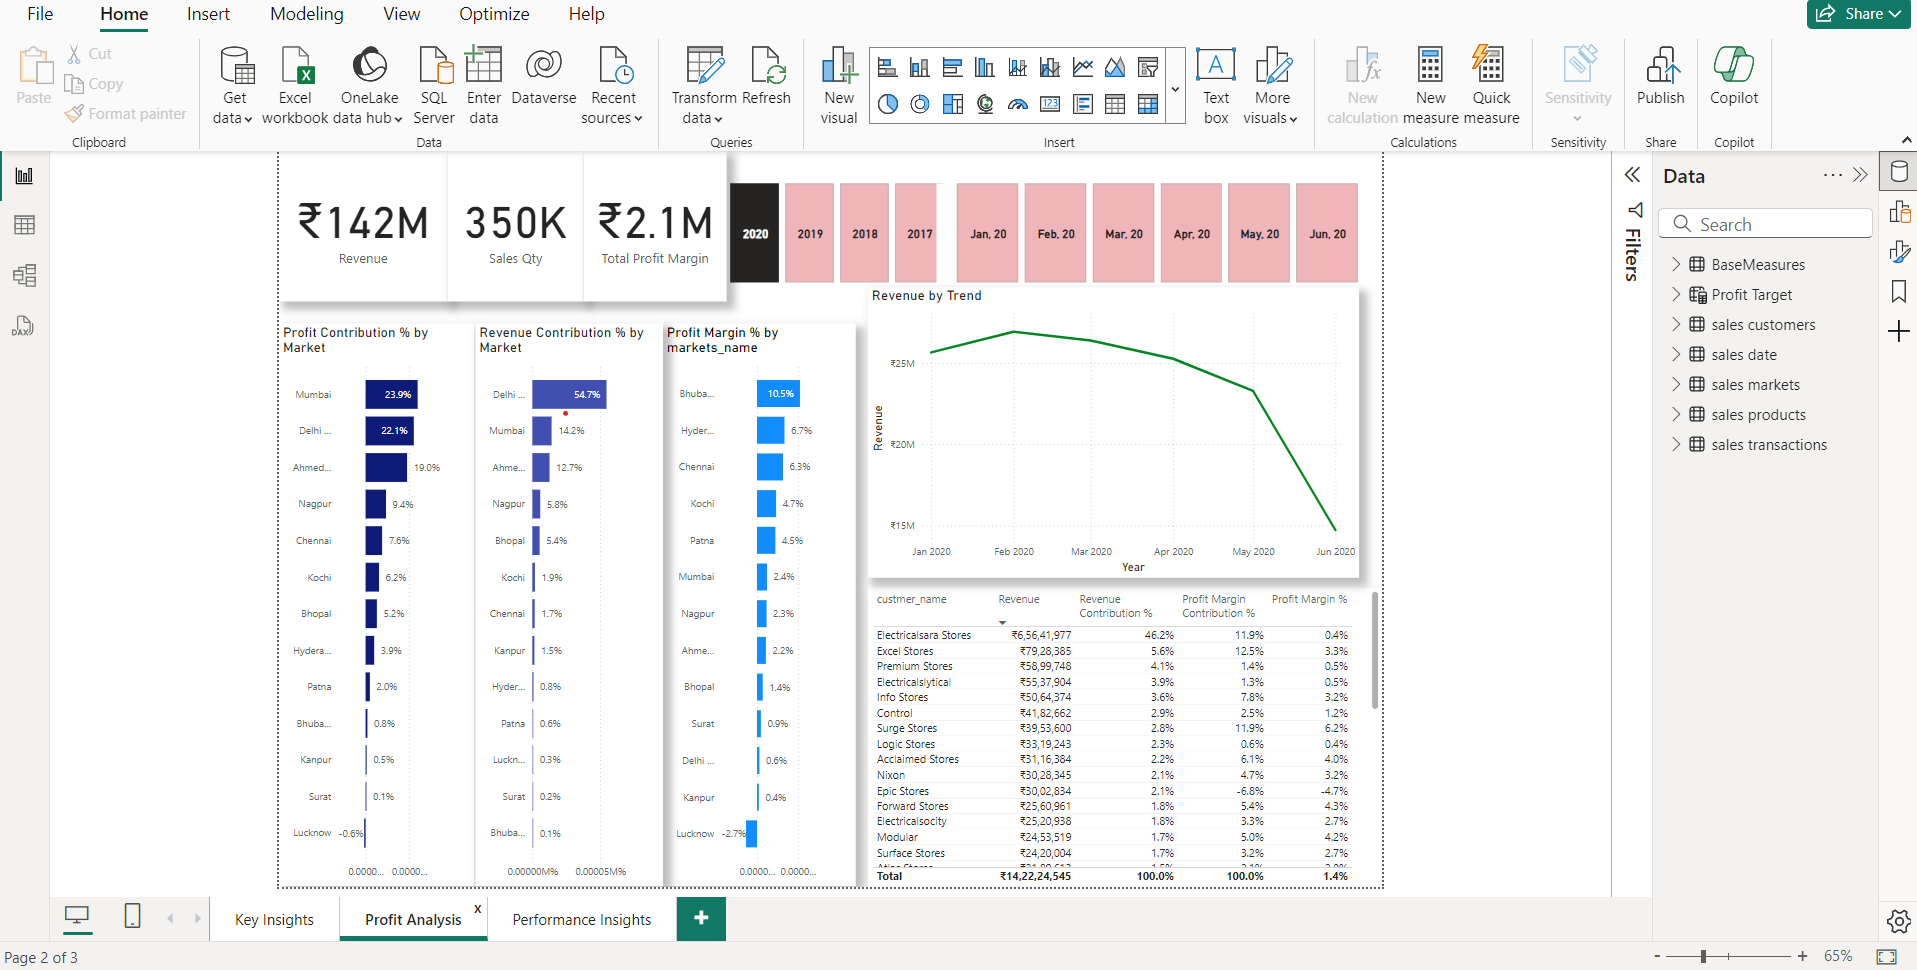

The page's visual inventory and layout, read from the dashboard file:
{"tool":"powerbi","page":{"name":"Profit Analysis","canvas":[1350,900],"ordinal":1},"visuals":[{"type":"card","fields":{"Values":["BaseMeasures.Revenue"]},"box":[0,0,206.2,184],"z":0},{"type":"card","fields":{"Values":["BaseMeasures.Sales Qty"]},"box":[206.2,0,166.5,184],"z":1000},{"type":"barChart","fields":{"Category":["sales markets.markets_name"],"Y":["BaseMeasures.Profit Margin %"]},"box":[469.5,210.9,236.3,688.3],"z":2000},{"type":"barChart","title":"Profit Contribution % by Market","fields":{"Category":["sales markets.markets_name"],"Y":["BaseMeasures.Profit Margin Contribution %"]},"box":[0,210.9,239.5,688.3],"z":3000},{"type":"advancedSlicerVisual","title":"Year","fields":{"Values":["sales date.year"]},"box":[547.2,39.7,273.6,126.9],"z":4000},{"type":"advancedSlicerVisual","title":"Year","fields":{"Values":["sales date.cy_date"]},"box":[804,39.7,545.7,126.9],"z":5000},{"type":"tableEx","title":"Top 5 Products","fields":{"Values":["sales customers.custmer_name","BaseMeasures.Revenue","BaseMeasures.Revenue Contribution %","BaseMeasures.Profit Margin Contribution %","BaseMeasures.Profit Margin %"]},"box":[720.1,532.9,629.6,366.4],"z":6000},{"type":"lineChart","title":"Revenue by Trend","fields":{"Y":["BaseMeasures.Revenue"],"Category":["sales date.cy_date.Variation.Date Hierarchy.Year","sales date.cy_date.Variation.Date Hierarchy.Quarter","sales date.cy_date.Variation.Date Hierarchy.Month","sales date.cy_date.Variation.Date Hierarchy.Day"]},"box":[720.1,166.5,601.1,355.3],"z":7000},{"type":"card","fields":{"Values":["BaseMeasures.Total Profit Margin"]},"box":[372.7,0,174.5,184],"z":8000},{"type":"barChart","title":"Revenue Contribution % by Market","fields":{"Category":["sales markets.markets_name"],"Y":["BaseMeasures.Revenue Contribution %"]},"box":[239.5,210.9,230,688.3],"z":9000}]}

Visuals, with their boxes on the page's 1350x900 design canvas (x1, y1, x2, y2). These are canvas units, not pixel positions in the 1917x970 screenshot, which may show the page scaled, cropped or inside an application window:
card - BaseMeasures.Revenue: box(0, 0, 206, 184)
card - BaseMeasures.Sales Qty: box(206, 0, 373, 184)
barChart - sales markets.markets_name x BaseMeasures.Profit Margin %: box(470, 211, 706, 899)
"Profit Contribution % by Market" barChart: box(0, 211, 240, 899)
"Year" advancedSlicerVisual: box(547, 40, 821, 167)
"Year" advancedSlicerVisual: box(804, 40, 1350, 167)
"Top 5 Products" tableEx: box(720, 533, 1350, 899)
"Revenue by Trend" lineChart: box(720, 166, 1321, 522)
card - BaseMeasures.Total Profit Margin: box(373, 0, 547, 184)
"Revenue Contribution % by Market" barChart: box(240, 211, 470, 899)
